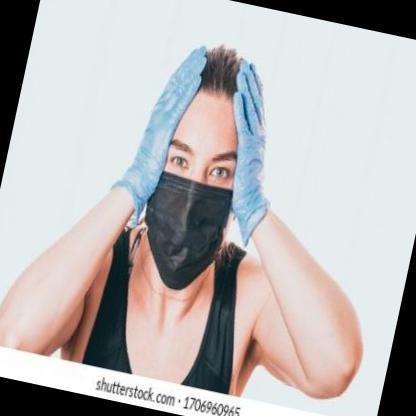Gloves: (101, 30, 211, 239), (200, 58, 298, 250)
